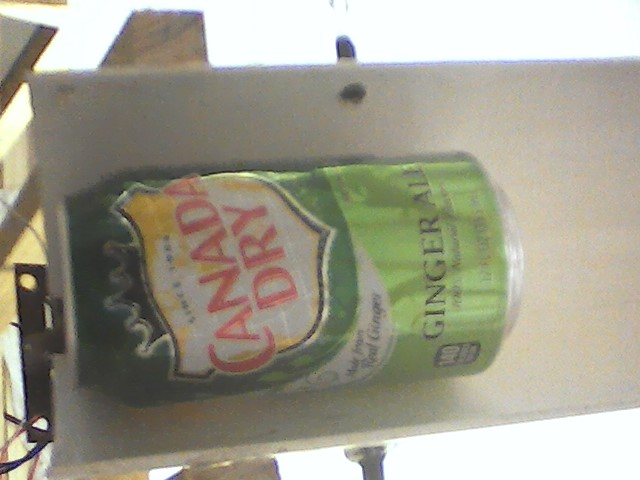lata: (57, 148, 532, 416)
